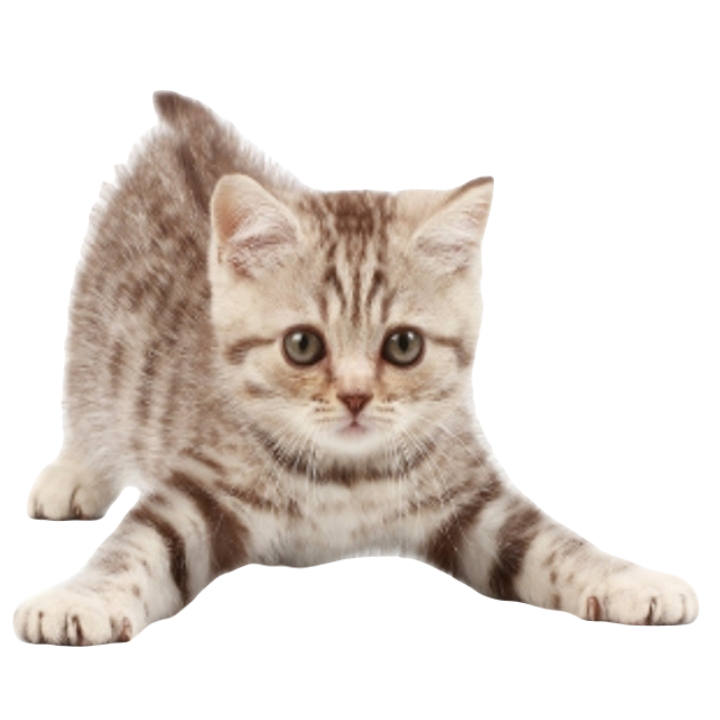Cat: (0, 82, 717, 647)
